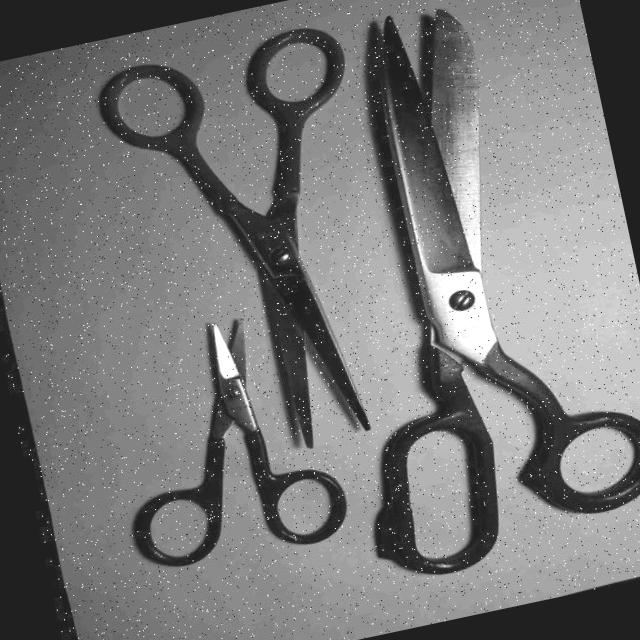scissors: (349, 0, 640, 600), (84, 19, 377, 461), (109, 312, 363, 580)
